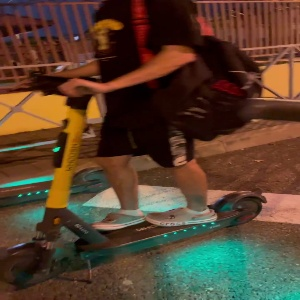human on a scooter: (1, 1, 268, 287)
